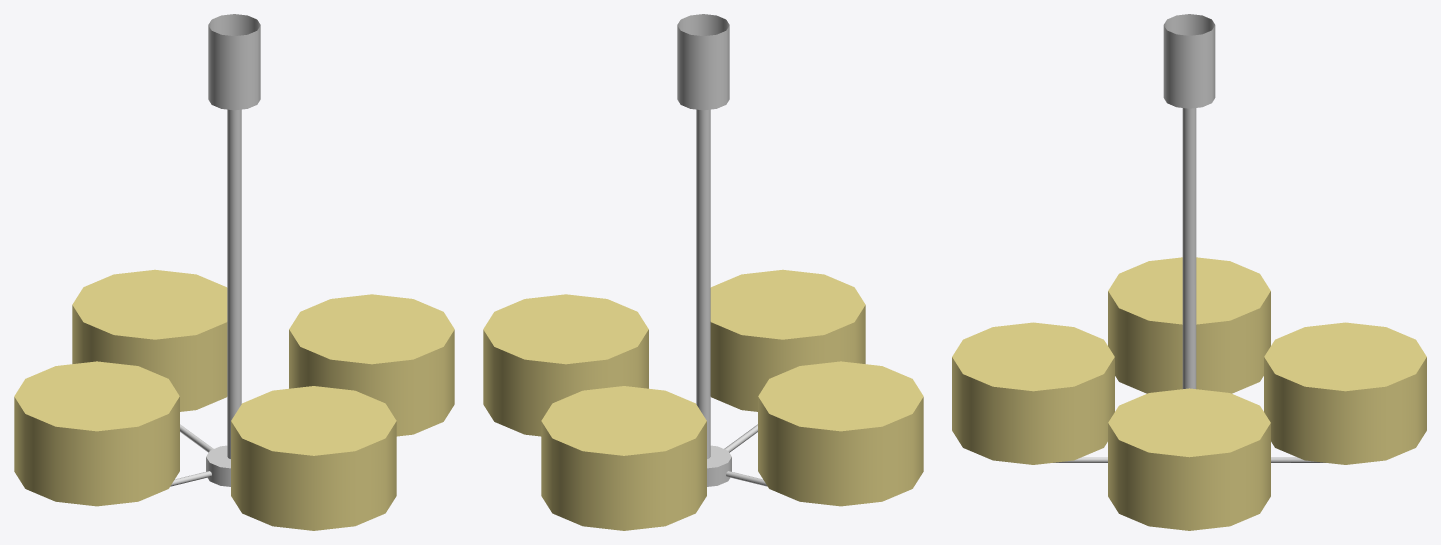
Rendered from Lamp_1.fbx.
3 views of the same model, side by side, from view 1: azimuth 30°, elevation 25°; view 2: azimuth 150°, elevation 25°; view 3: azimuth 270°, elevation 25° (orthographic).
Visible parts, largest first — view 1: Lamp_1; view 2: Lamp_1; view 3: Lamp_1.
Part boxes in pixels (left/top/right/bottom): Lamp_1: left=14, top=14, right=454, bottom=530; Lamp_1: left=483, top=14, right=923, bottom=530; Lamp_1: left=952, top=14, right=1426, bottom=530.
Size of the model in its own units: 79.63 by 81.9 by 79.63.
